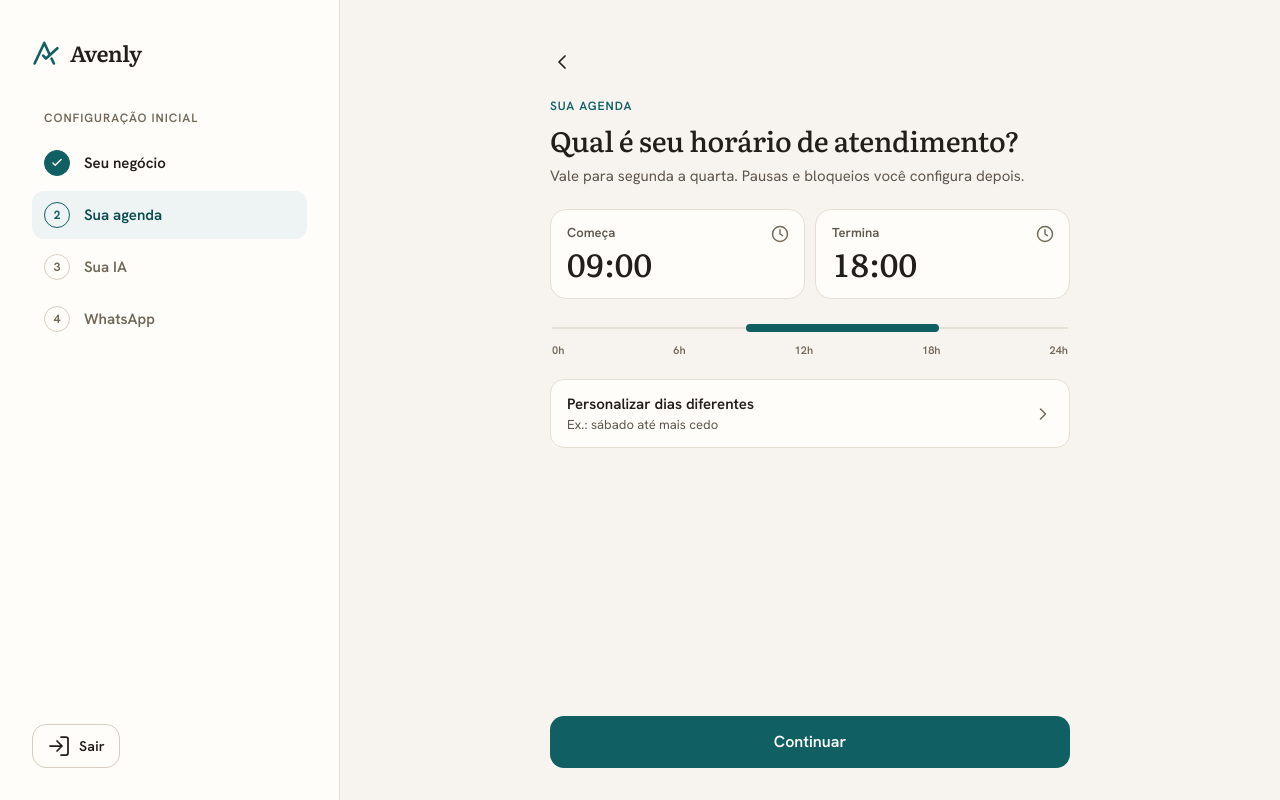
Test: horas: intervalo em texto e barra decorativa (§6.9) › Personalizar dias diferentes continua botão e abre a tela por dia
What coordinates should you click on to do the following:
click the button "Personalizar dias diferentes"
I would click on:
 (660, 404)
Its box is [550, 379, 1070, 448].
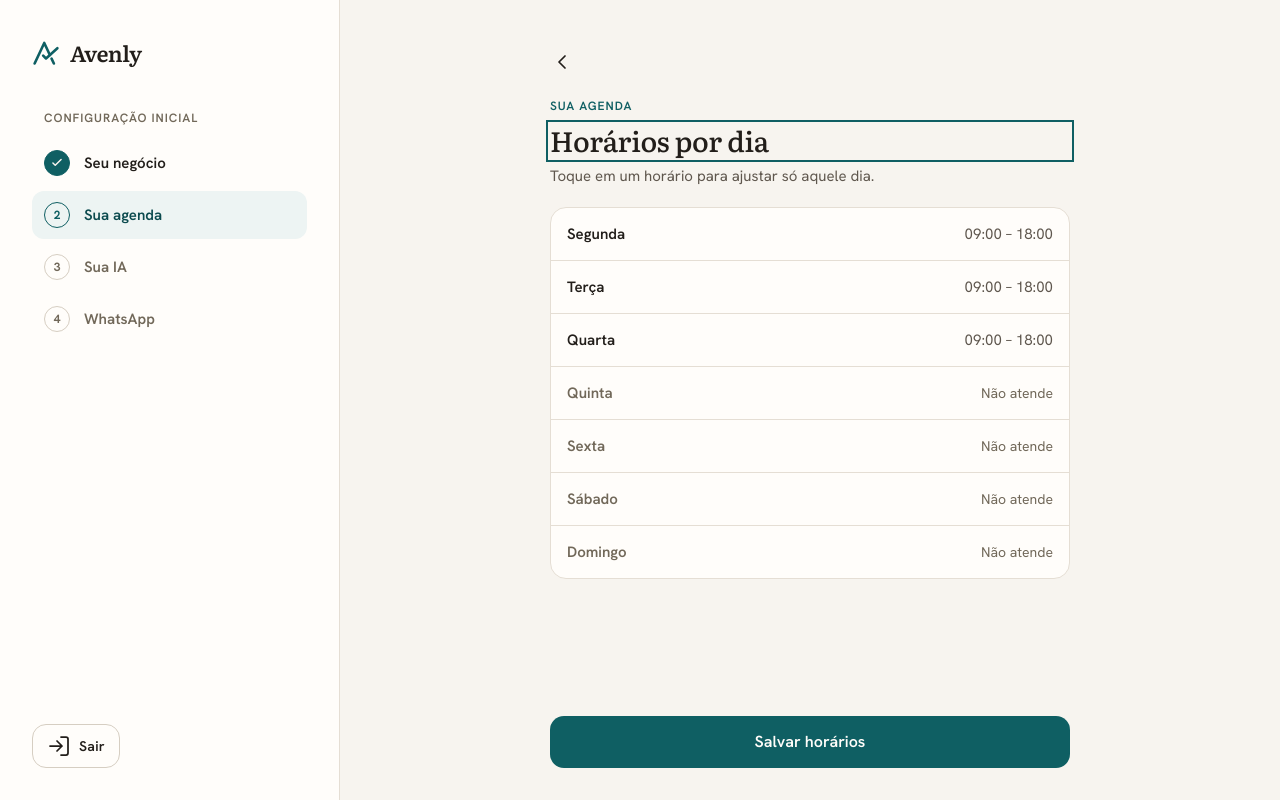
expect the heading "Horários por dia" is shown: met, box [550, 119, 769, 161]
What coordinates should you click on to do the following:
click the button "Segunda 09:00 – 18:00"
I would click on:
 (596, 234)
Its box is [551, 208, 1069, 260].
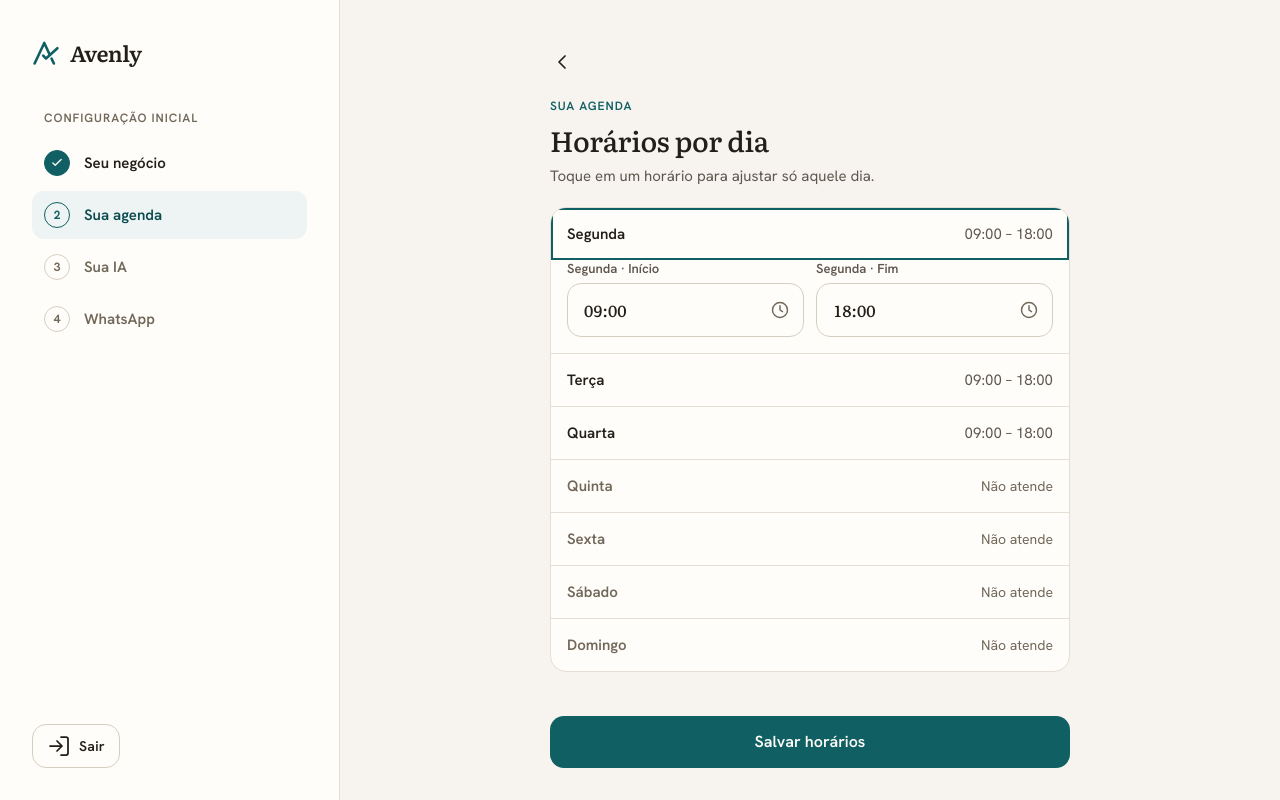
expect the field labelled "Segunda · Início" is shown: met, box [567, 283, 804, 337]
